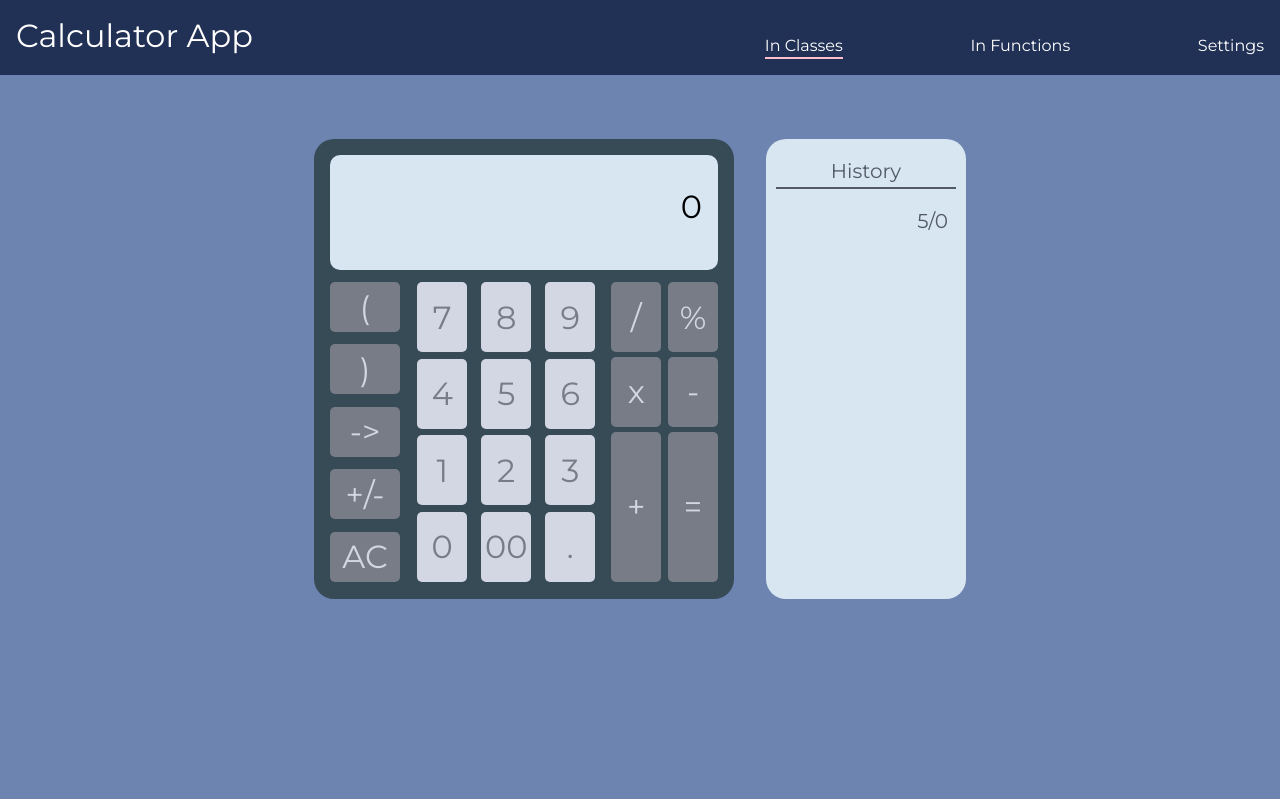
Scenario: Calculation error display › brackets pairs error: Brackets must be paired!!!
This screenshot has width=1280, height=800.
What coordinates should you click on to do the following:
click the button "("
I would click on:
 (365, 307)
Its box is [330,282,400,332].
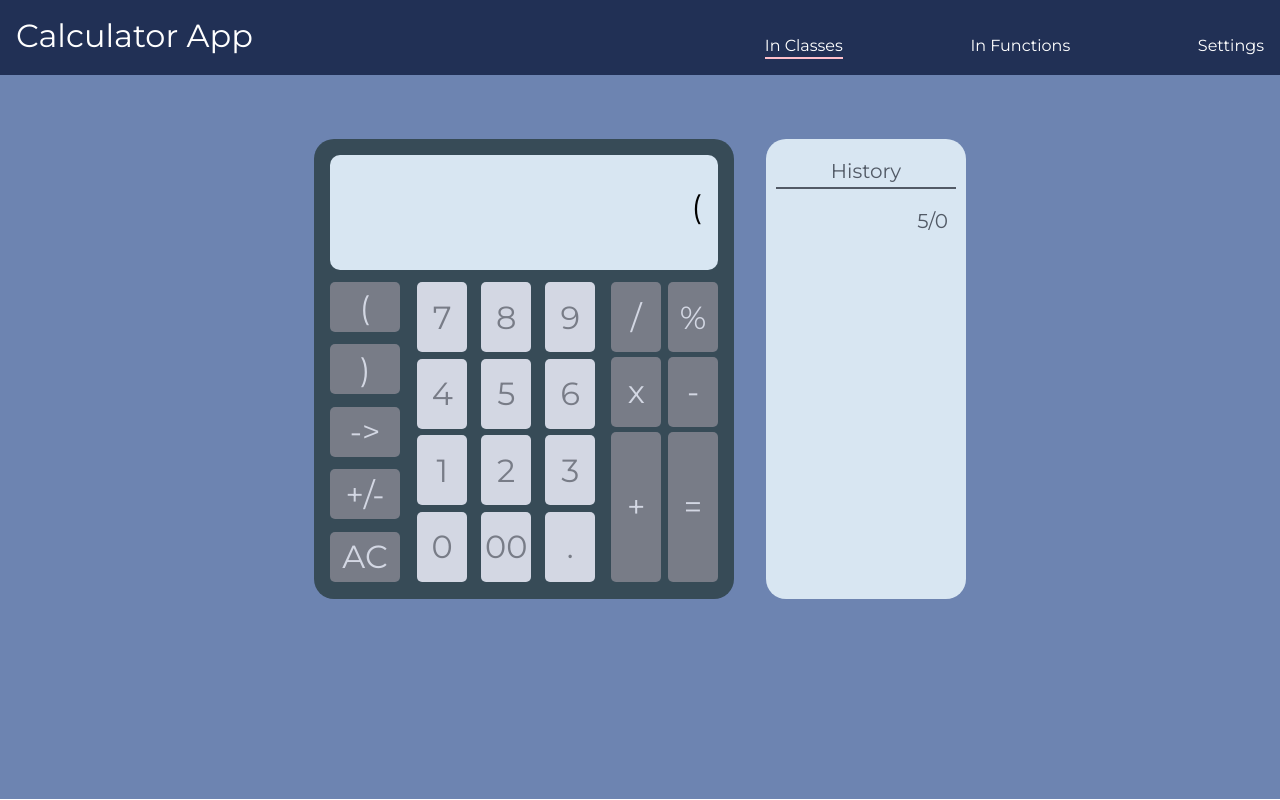
What coordinates should you click on to do the following:
click the button "("
I would click on:
 (365, 307)
Its box is [330,282,400,332].
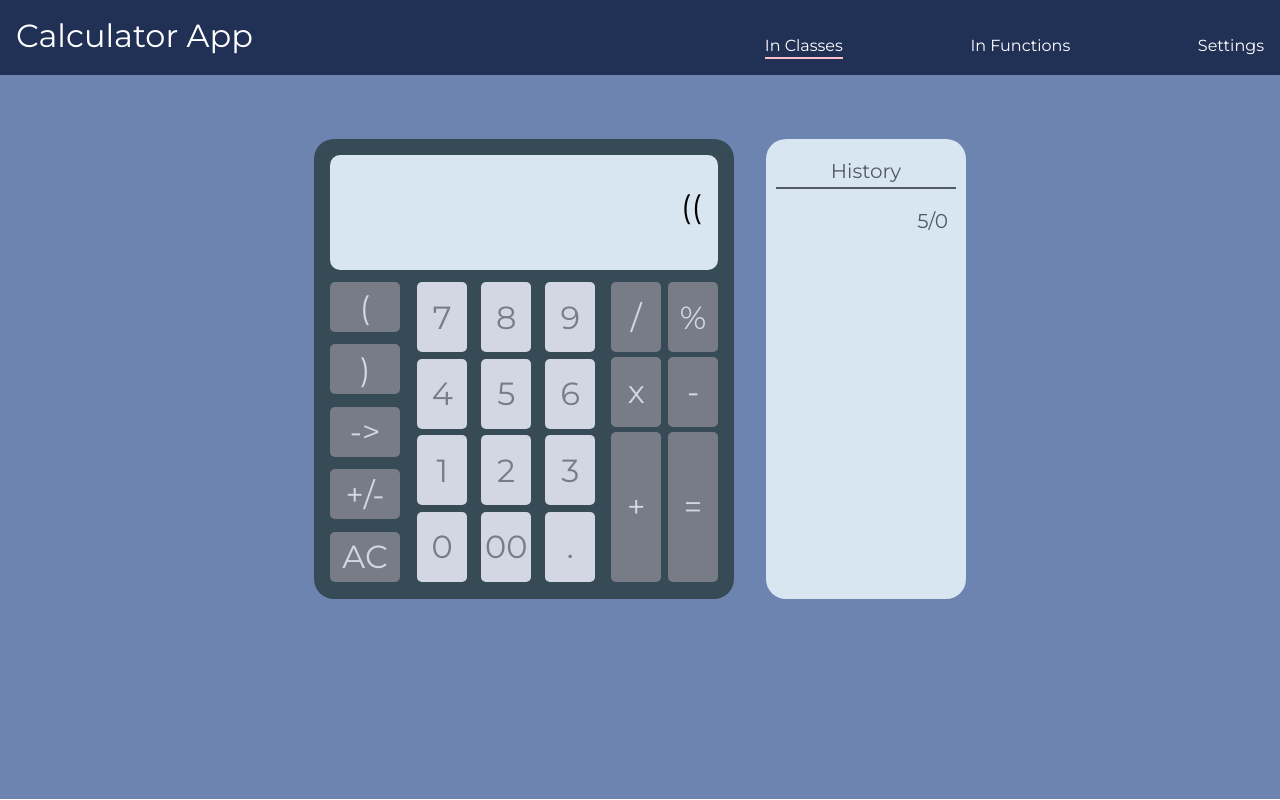
What coordinates should you click on to do the following:
click the button "5"
I would click on:
 (506, 394)
Its box is [481,359,531,429].
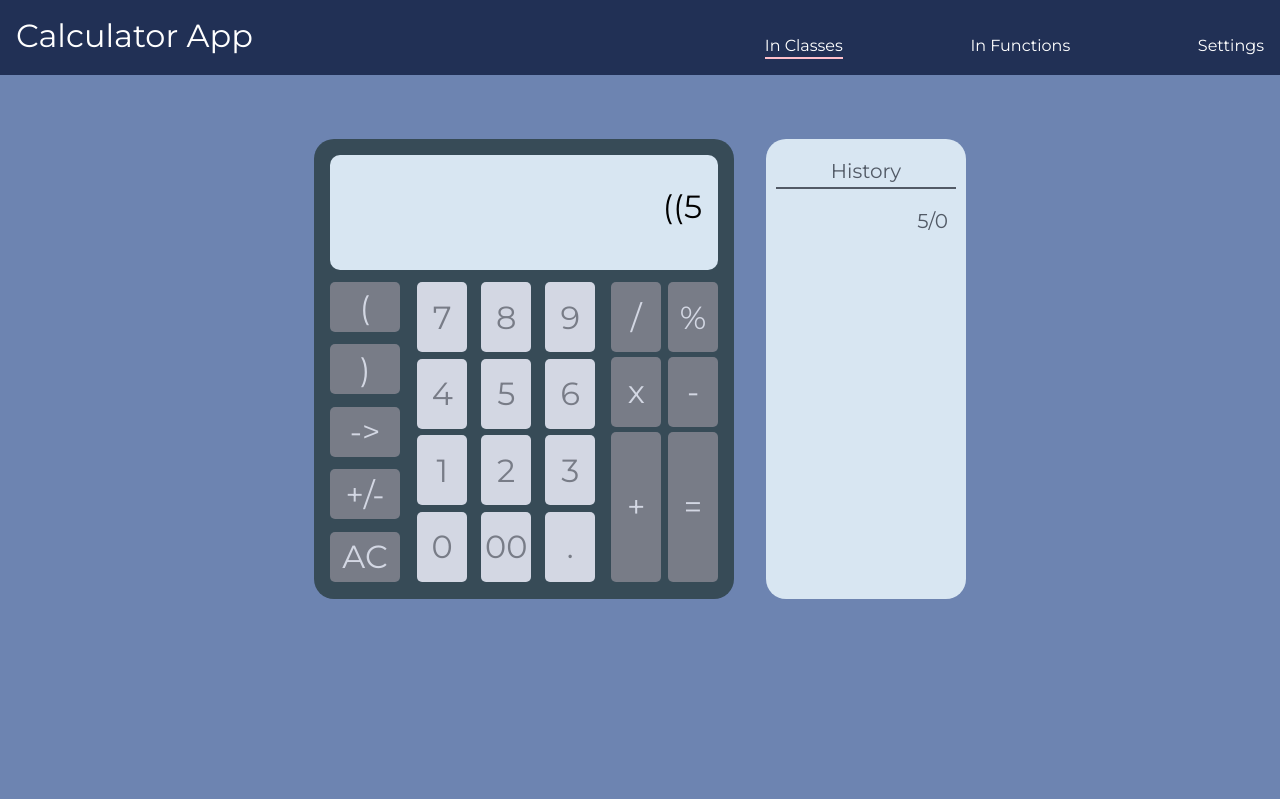
What coordinates should you click on to do the following:
click the button "/"
I would click on:
 (636, 317)
Its box is [611,282,661,352].
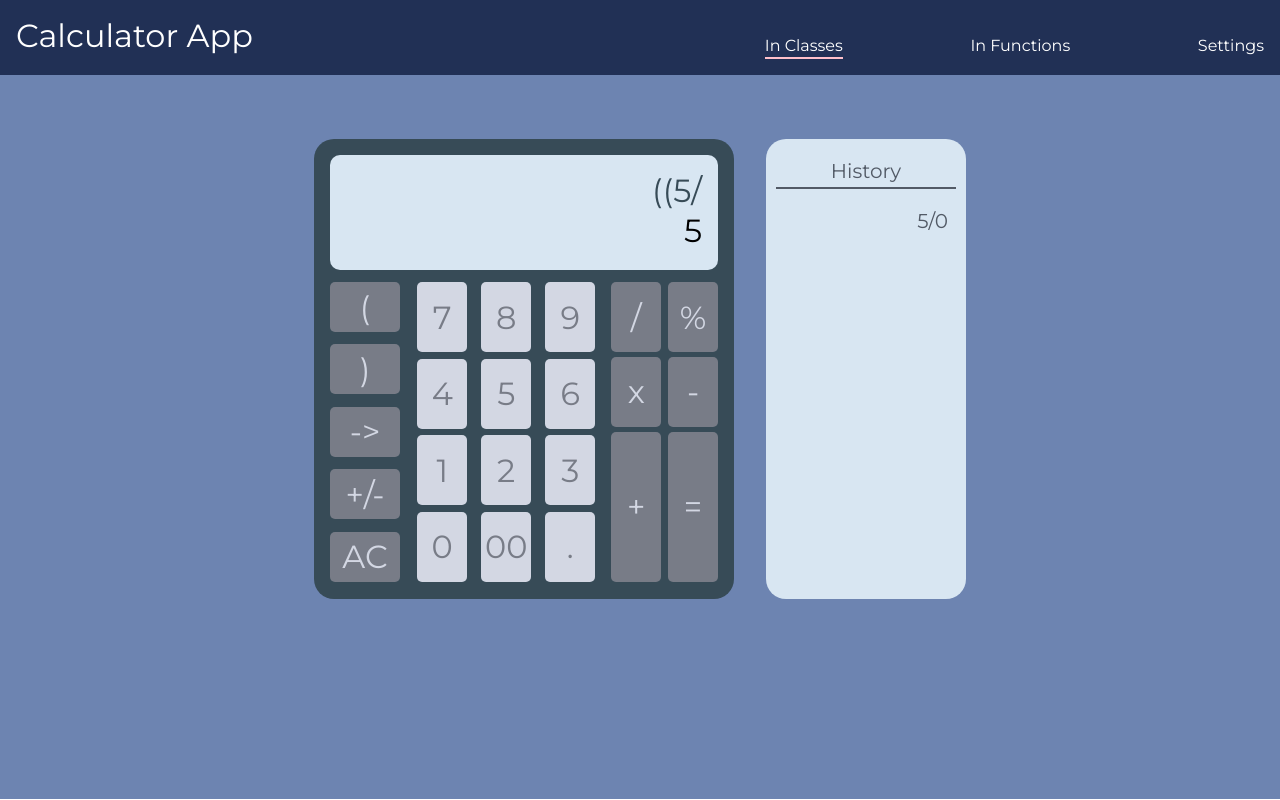
What coordinates should you click on to do the following:
click the button "="
I would click on:
 (693, 507)
Its box is [668,432,718,582].
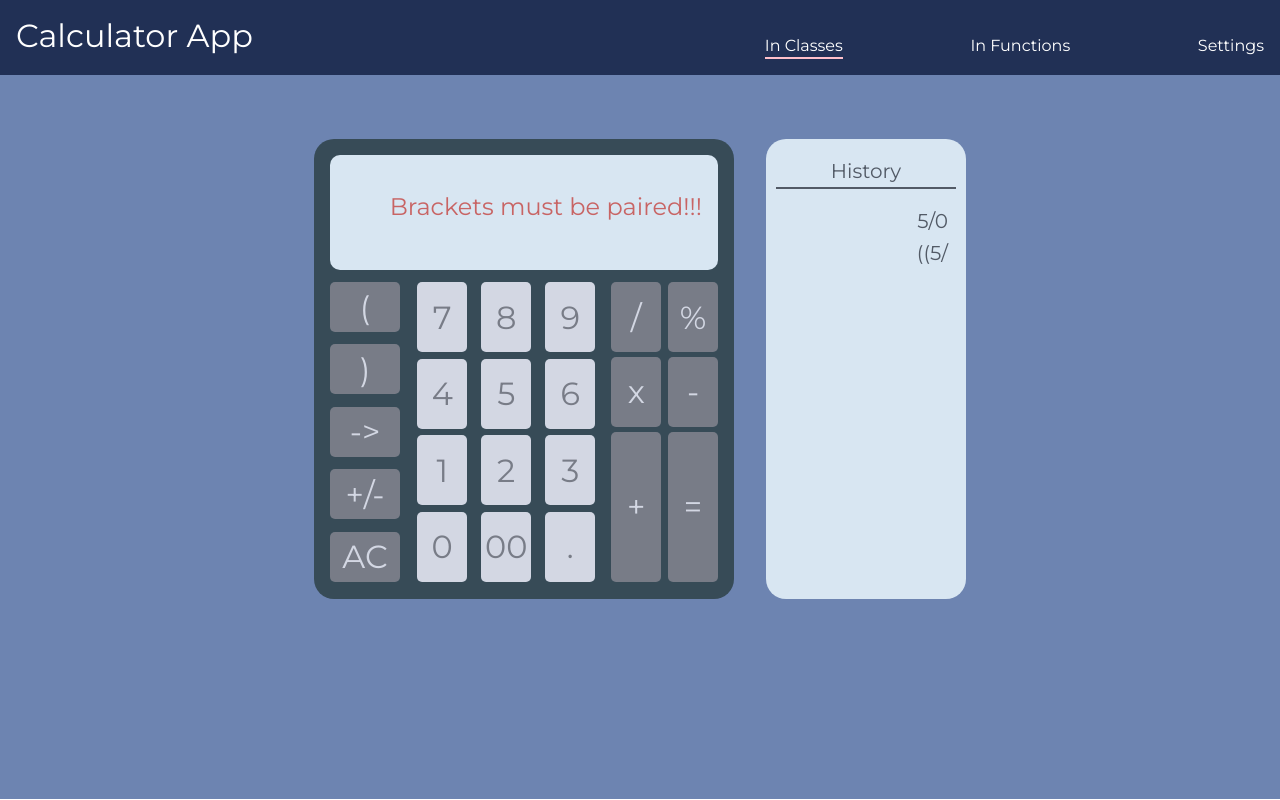
Check: the text with test id "expression-result" reads "Brackets must be paired!!!", box [390,192,702,221]
